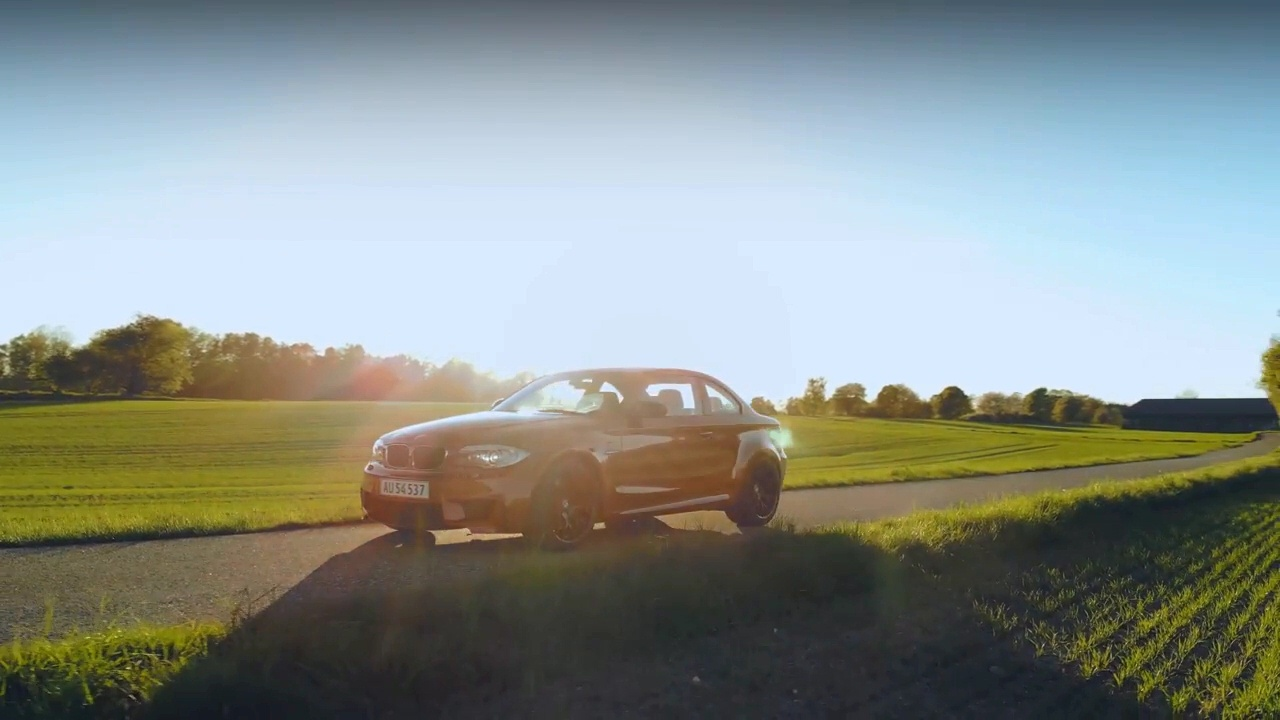araba: (355, 365, 787, 548)
